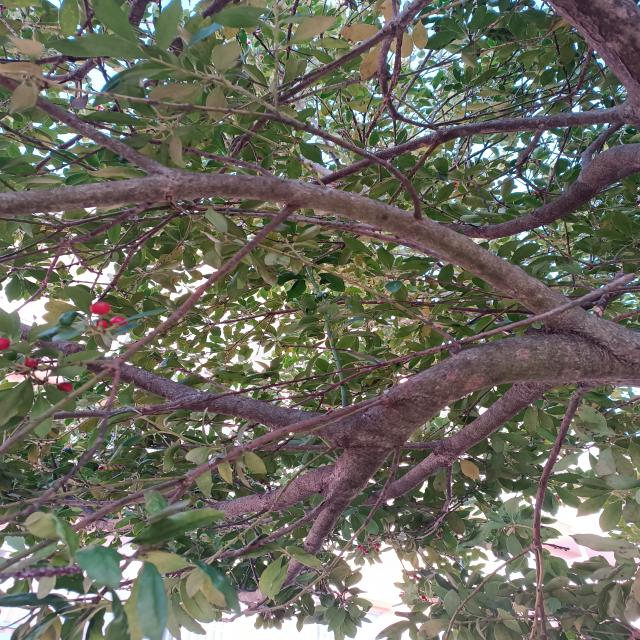Branch: (5, 173, 640, 380), (211, 333, 640, 526), (0, 311, 345, 443), (311, 99, 640, 186), (352, 380, 565, 505), (442, 145, 640, 239)
Twig: (98, 0, 432, 303), (0, 202, 305, 453), (0, 397, 383, 573), (73, 57, 424, 220), (0, 72, 181, 175), (378, 30, 554, 127), (78, 97, 283, 179), (45, 404, 182, 420)
